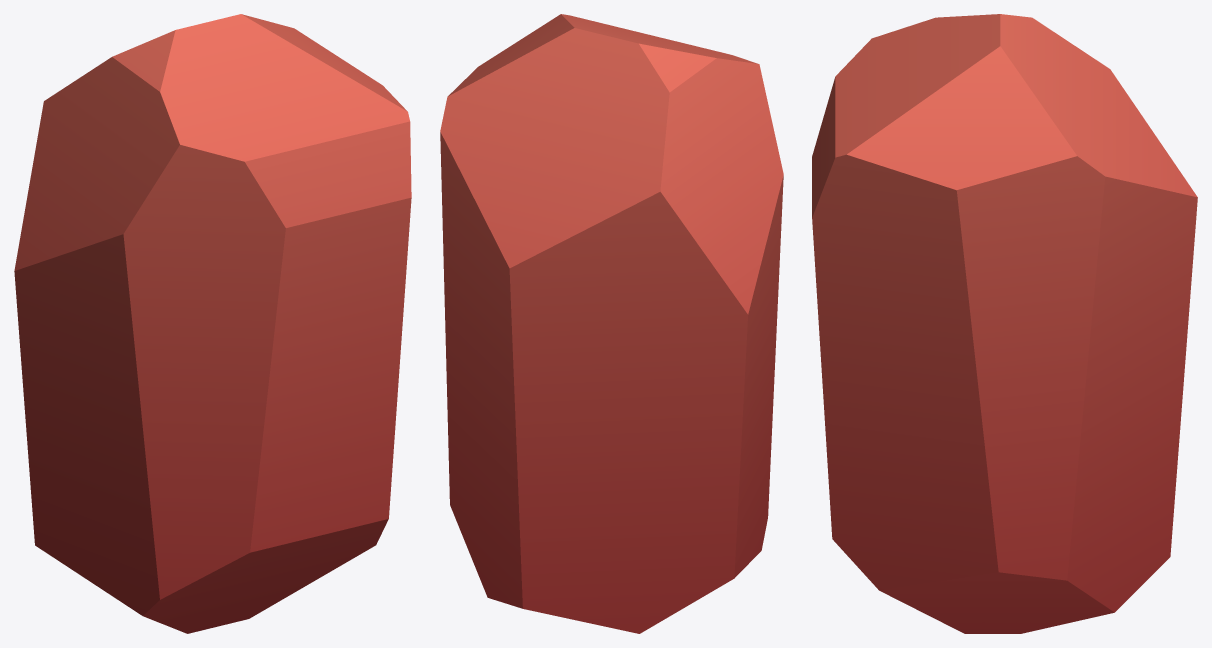
Rendered from Crystal_12.fbx.
3 renders of one model, left to right at view 1: azimuth 30°, elevation 25°; view 2: azimuth 150°, elevation 25°; view 3: azimuth 270°, elevation 25°, orthographic. The views are drawn at different scales.
Parts seen in each view (by area): view 1: Crystal_12; view 2: Crystal_12; view 3: Crystal_12.
Part boxes in pixels (bbox=[...]): Crystal_12: bbox=[14, 14, 411, 633]; Crystal_12: bbox=[440, 14, 783, 633]; Crystal_12: bbox=[812, 14, 1197, 633].
Bounding box in the file's own units: 0.7325 × 1.28 × 0.7561.
